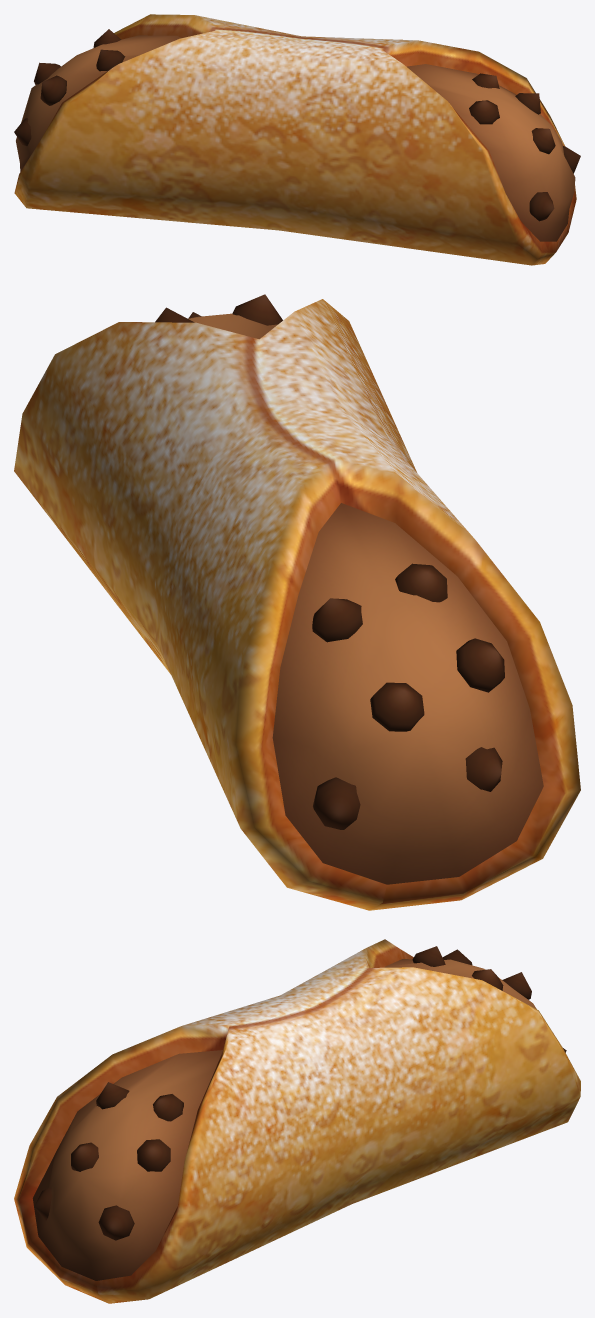
Rendered from 009-Cannolis03.FBX.
3 renders of one model, top to bottom at view 1: azimuth 30°, elevation 25°; view 2: azimuth 150°, elevation 25°; view 3: azimuth 270°, elevation 25°, orthographic. The views are drawn at different scales.
Visible parts, largest first — view 1: 009-Cannolis03; view 2: 009-Cannolis03; view 3: 009-Cannolis03.
Part boxes in pixels (x1,y1,x2,y2): 009-Cannolis03: (14, 14, 580, 265); 009-Cannolis03: (14, 294, 580, 910); 009-Cannolis03: (14, 939, 580, 1303).
Size of the model in its own units: 18.09 by 7.36 by 18.09.
